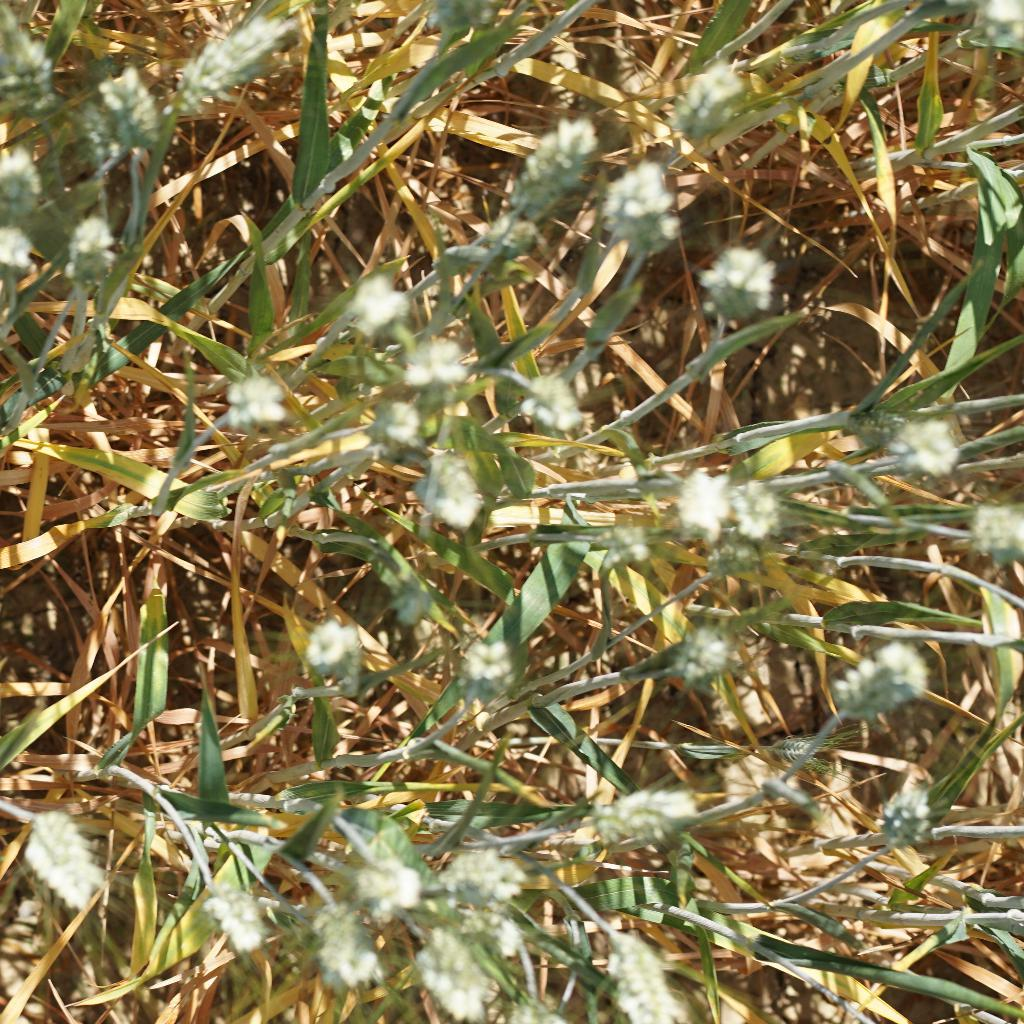0-0: (176, 3, 301, 102), (18, 791, 115, 912), (594, 912, 695, 1024), (593, 149, 687, 258), (692, 232, 788, 333), (830, 645, 937, 735), (296, 881, 382, 989), (496, 120, 595, 213), (202, 358, 299, 449), (587, 774, 701, 849), (866, 404, 971, 485), (415, 926, 501, 1024), (413, 441, 493, 535), (193, 878, 281, 963), (441, 623, 524, 710), (425, 843, 538, 905), (657, 606, 739, 690), (503, 369, 589, 443), (395, 325, 481, 399), (295, 600, 366, 688), (725, 460, 802, 541), (676, 62, 746, 146), (666, 459, 740, 537), (351, 377, 426, 452), (333, 271, 411, 343), (436, 223, 544, 275), (772, 729, 867, 787), (62, 213, 123, 290), (347, 851, 422, 912), (0, 0, 45, 100), (107, 63, 161, 146), (878, 778, 942, 847), (701, 533, 778, 589), (949, 507, 1024, 562), (419, 0, 497, 51), (0, 148, 49, 223), (598, 515, 660, 574)
